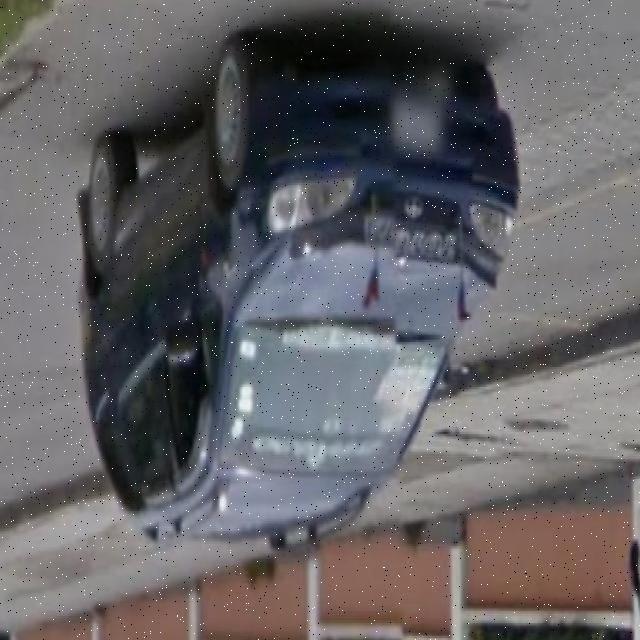car: (76, 16, 511, 529)
